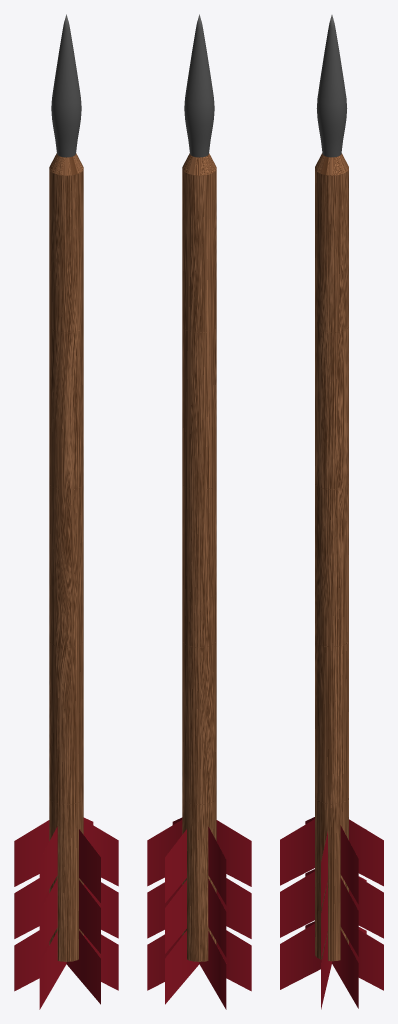
The model's file is flecha.FBX.
The picture shows the model from 3 angles, left to right: view 1: azimuth 30°, elevation 25°; view 2: azimuth 150°, elevation 25°; view 3: azimuth 330°, elevation 25°; orthographic projection.
Parts seen in each view (by area): view 1: Flecha, Box006, PuntaFlecha; view 2: Flecha, Box006, PuntaFlecha; view 3: Flecha, Box006, PuntaFlecha.
Part boxes in pixels (x1,y1,x2,y2): Flecha: [49, 153, 83, 961]; Box006: [14, 817, 118, 1009]; PuntaFlecha: [51, 14, 81, 157]; Flecha: [182, 153, 216, 961]; Box006: [147, 817, 251, 1009]; PuntaFlecha: [184, 14, 214, 157]; Flecha: [315, 153, 348, 961]; Box006: [280, 817, 383, 1009]; PuntaFlecha: [316, 15, 347, 157].
Bounding box in the file's own units: 0.2035 × 2.41 × 0.2035.
3 materials, 1 textured.
